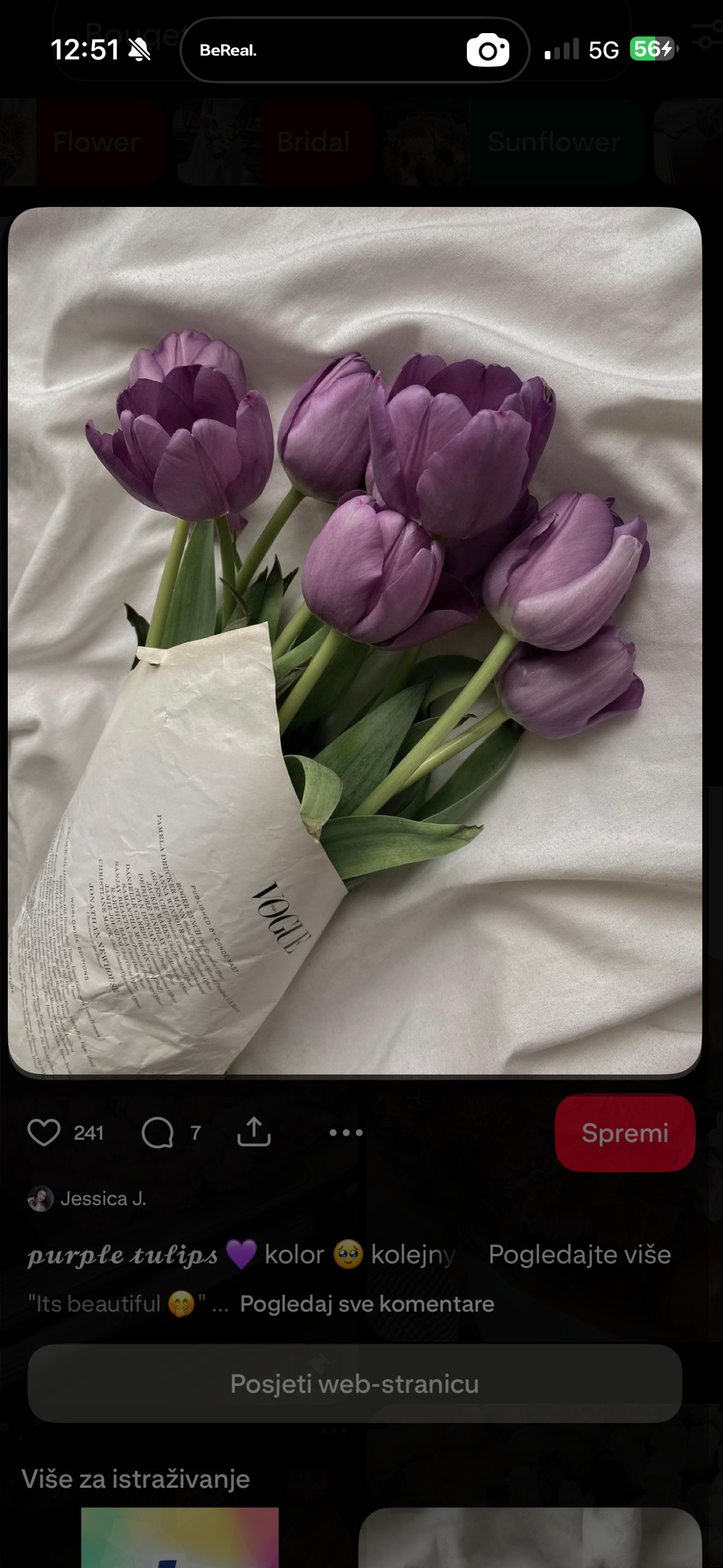tulip: (85, 326, 276, 524), (369, 352, 560, 550), (481, 488, 656, 653), (301, 494, 444, 654), (273, 349, 394, 501), (485, 629, 648, 741)
